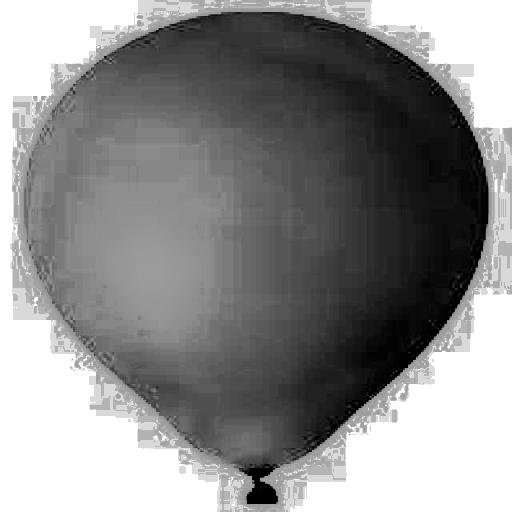balloon: (8, 8, 494, 504)
